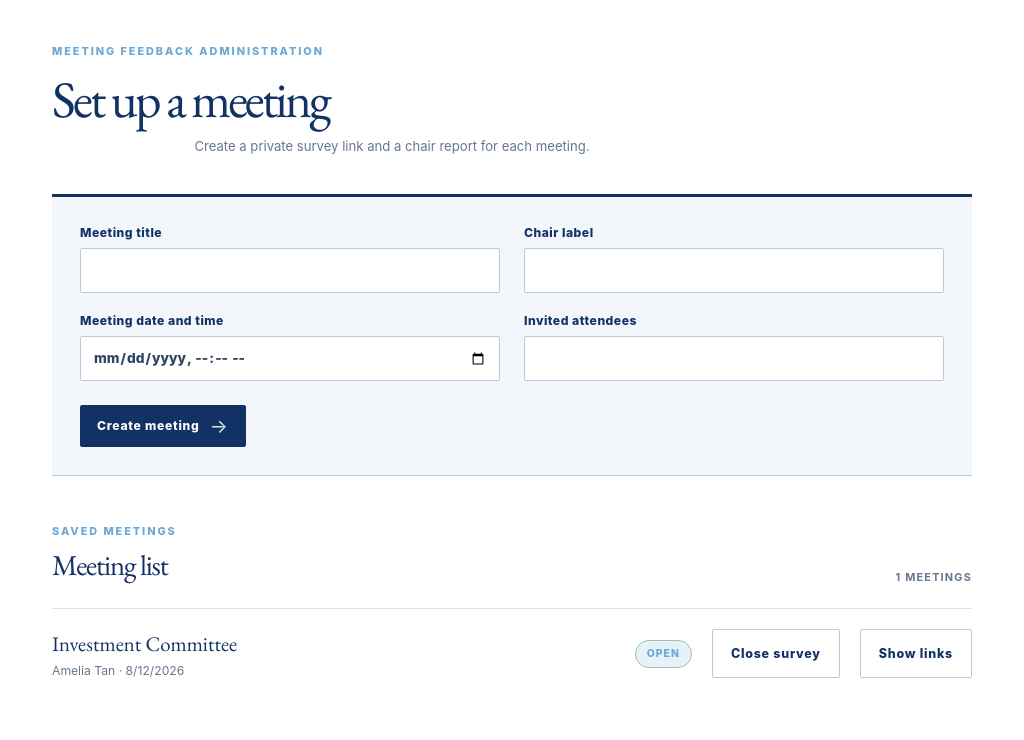
AdminPage › explains when a meeting predates stored access links
Click the button "Show links": (916, 654) [860,629,972,678]
(page scrolled)
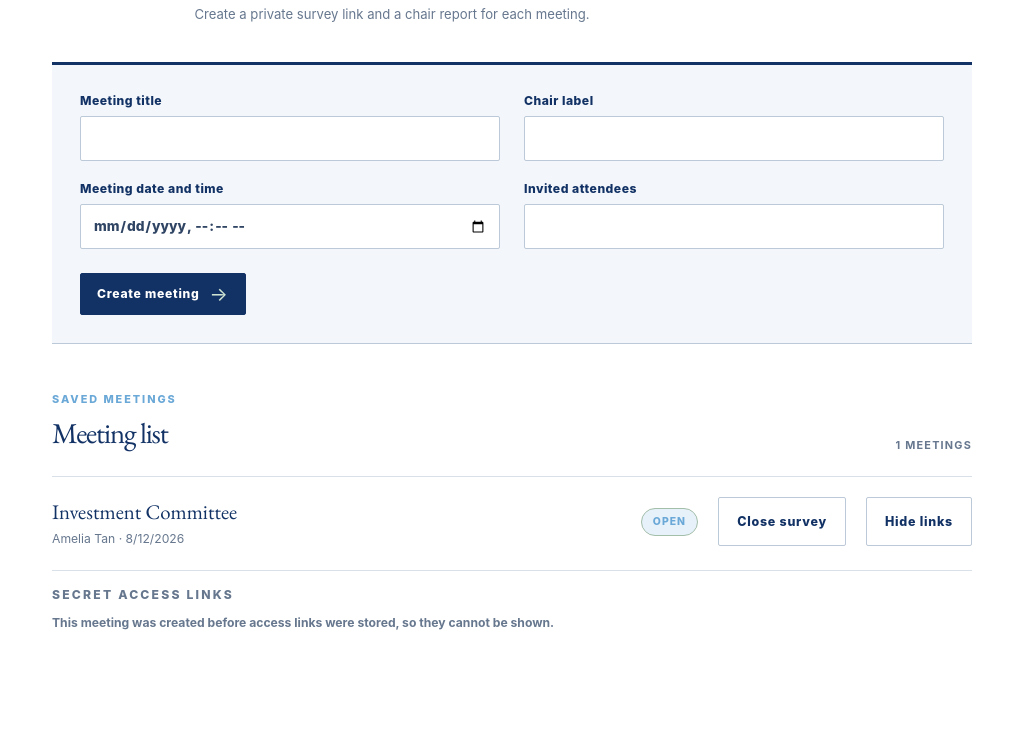
expect the message shows "cannot be shown": met, box [52,615,554,630]
